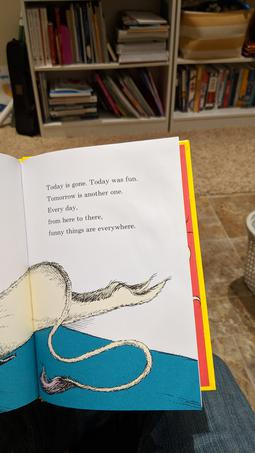text block: (31, 169, 148, 239)
